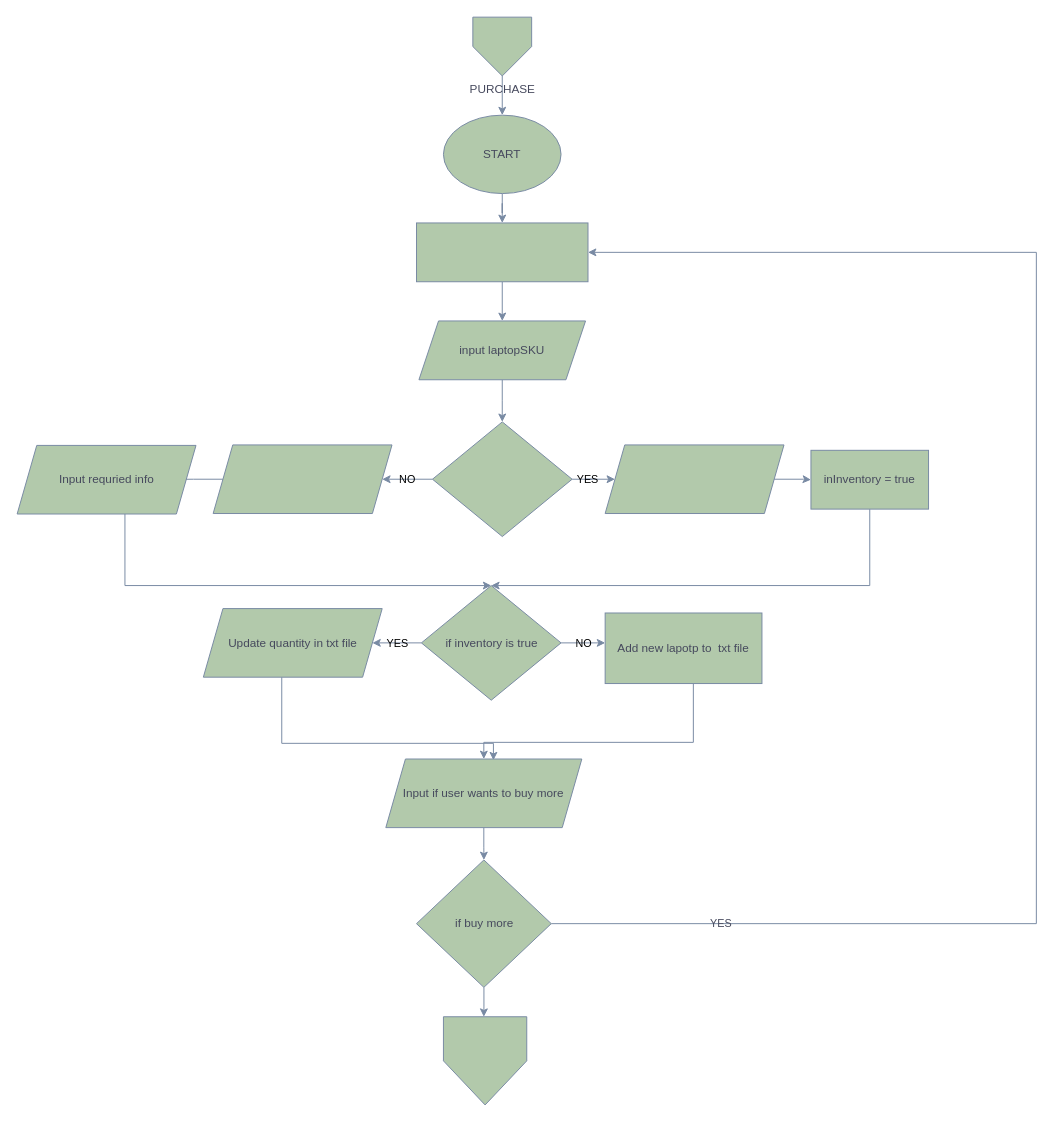
The diagram is 1061 pixels wide and 1143 high, and some of its shapes have lost their labels. The shapes that lost their labels are listed below. From the top down, each one's centre as x and y in pixels, then its label:
At point (502, 252): "store the sku of available laptops in skuList array".
At point (302, 479): "Print adding new laptop".
At point (501, 479): "If laptopSKU in skuList".
At point (694, 479): "Print Laptop already in Inventory".
At point (484, 1060): "WELCOME".
